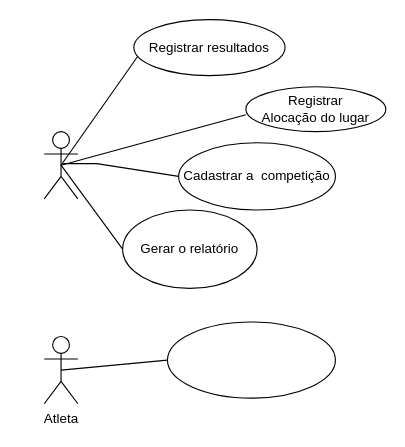
Some shapes in this 405 by 447 pixel diagram are drawn without their labels. Here are the shapes that lost their labels. From the top down, the box of each, then its label:
(43, 130, 78, 199): Administrador
(166, 321, 335, 398): Inscrever em alguma competição
